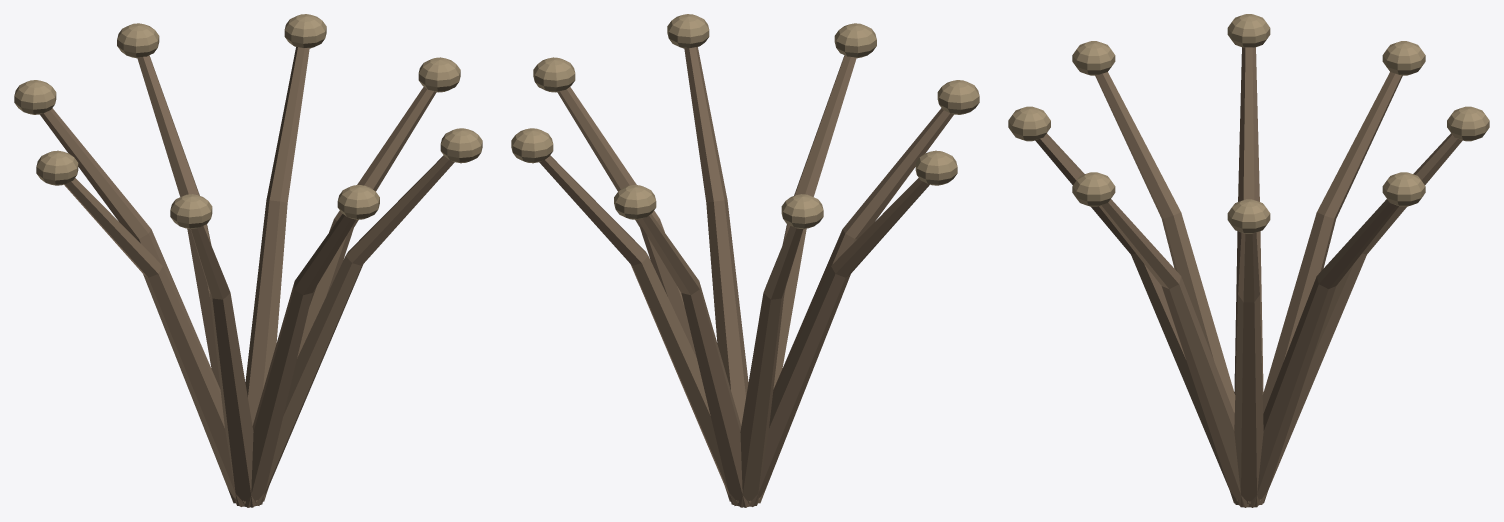
The model's file is Thread_CottonBush_Used.fbx.
3 views of the same model, side by side, from view 1: azimuth 30°, elevation 25°; view 2: azimuth 150°, elevation 25°; view 3: azimuth 270°, elevation 25° (orthographic).
Parts seen in each view (by area): view 1: Res_Thread_CottonBush_Used; view 2: Res_Thread_CottonBush_Used; view 3: Res_Thread_CottonBush_Used.
Boxes of the visible parts, bbox=[...] form: Res_Thread_CottonBush_Used: bbox=[14, 14, 482, 507]; Res_Thread_CottonBush_Used: bbox=[511, 14, 979, 507]; Res_Thread_CottonBush_Used: bbox=[1008, 14, 1489, 507].
Bounding box in the file's own units: 0.8742 × 0.7896 × 0.878.
